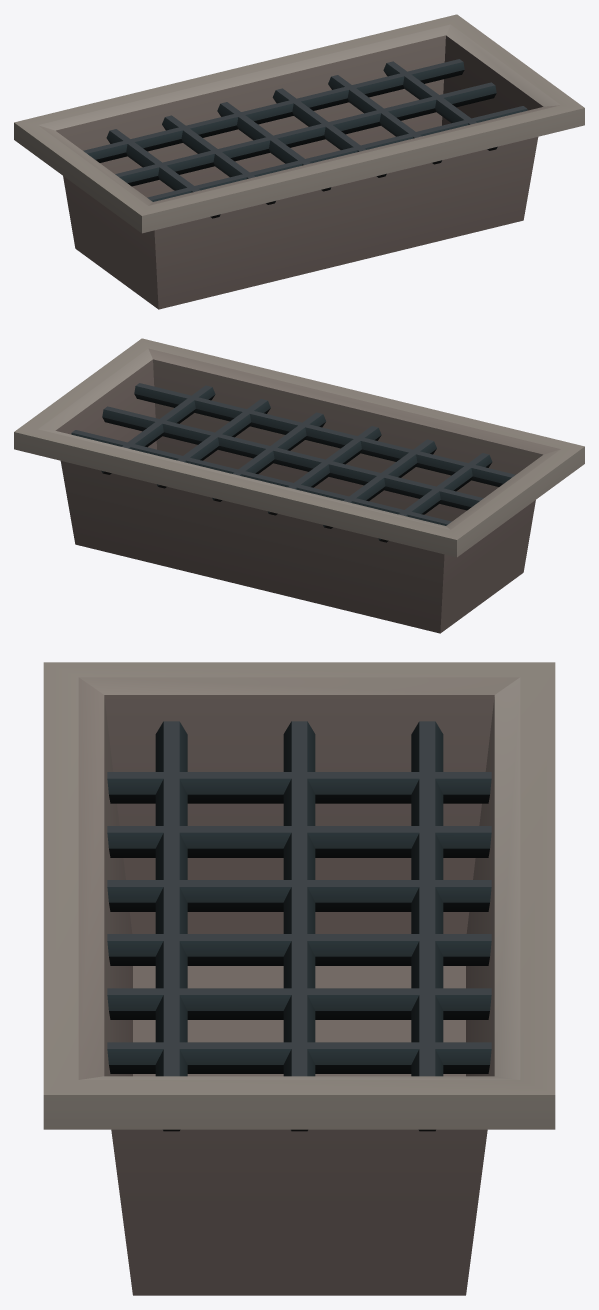
The model's file is floor_tile_grate.obj.
3 renders of one model, top to bottom at view 1: azimuth 30°, elevation 25°; view 2: azimuth 150°, elevation 25°; view 3: azimuth 270°, elevation 25°, orthographic. The views are drawn at different scales.
Visible parts, largest first — view 1: floor_tile_grate; view 2: floor_tile_grate; view 3: floor_tile_grate.
Part boxes in pixels (x1,y1,x2,y2): floor_tile_grate: [14, 14, 584, 309]; floor_tile_grate: [14, 338, 584, 633]; floor_tile_grate: [43, 662, 555, 1295].
Size of the model in its own units: 4 by 1.03 by 2.
Materials: 1 (1 with a texture image).
